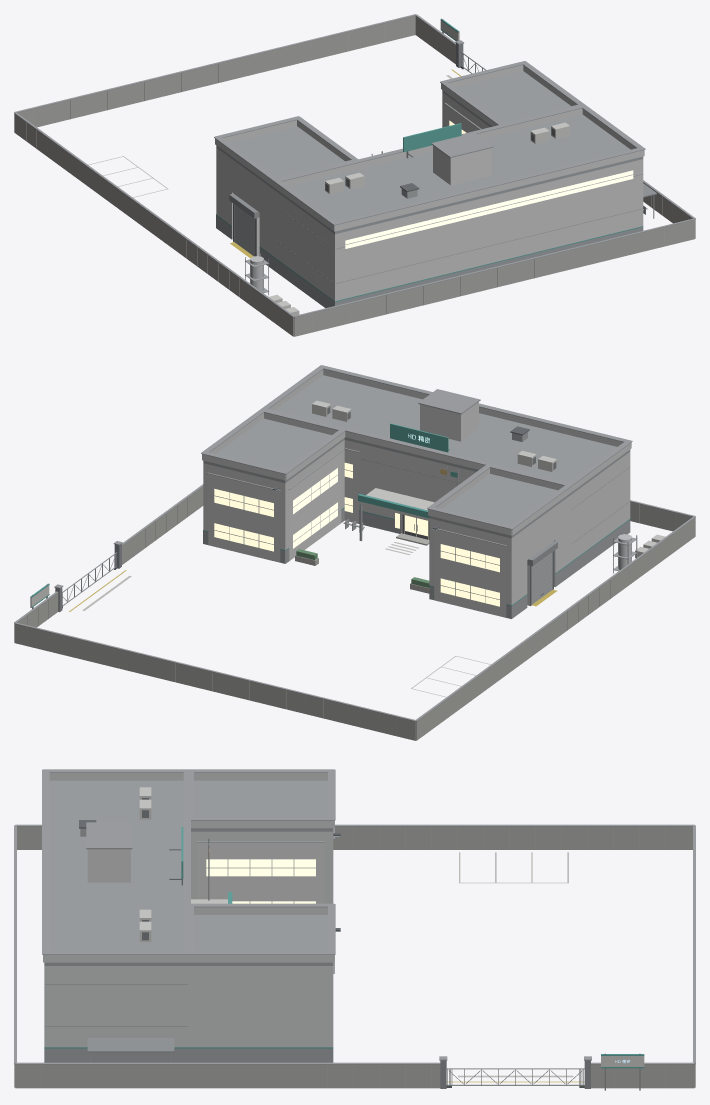
The model's file is biz_4008.glb.
3 views of the same model, one above another, from view 1: azimuth 30°, elevation 25°; view 2: azimuth 150°, elevation 25°; view 3: azimuth 270°, elevation 25° (orthographic). The views are drawn at different scales.
Visible parts, largest first — view 1: Static, Windows, Shutter_Down; view 2: Static, Windows, Shutter_Down; view 3: Static, Windows, Gate_Closed.
Part boxes in pixels (x1,y1,x2,y2): Static: (14, 14, 695, 336); Windows: (345, 120, 633, 248); Shutter_Down: (234, 204, 255, 256); Static: (14, 365, 695, 740); Windows: (214, 462, 499, 606); Shutter_Down: (531, 552, 552, 604); Static: (14, 769, 695, 1090); Windows: (206, 859, 315, 903); Gate_Closed: (446, 1068, 584, 1087).
Bounding box in the file's own units: 39.62 × 10.55 × 47.2.
